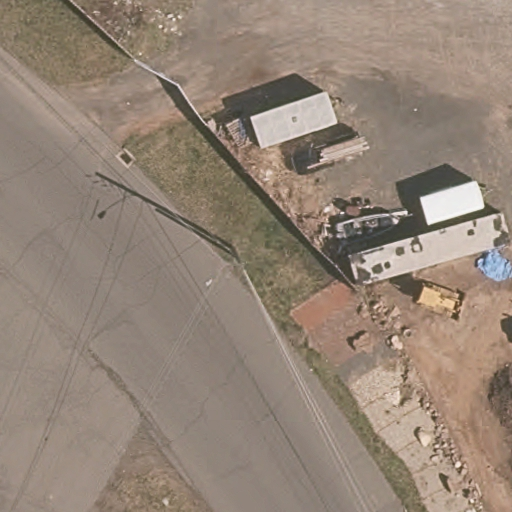DT: (220, 237, 254, 282)
